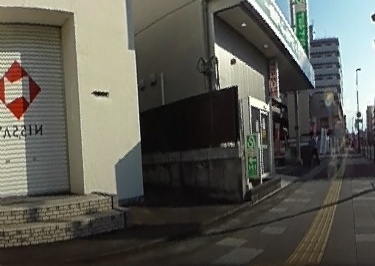person: (307, 130, 320, 163)
